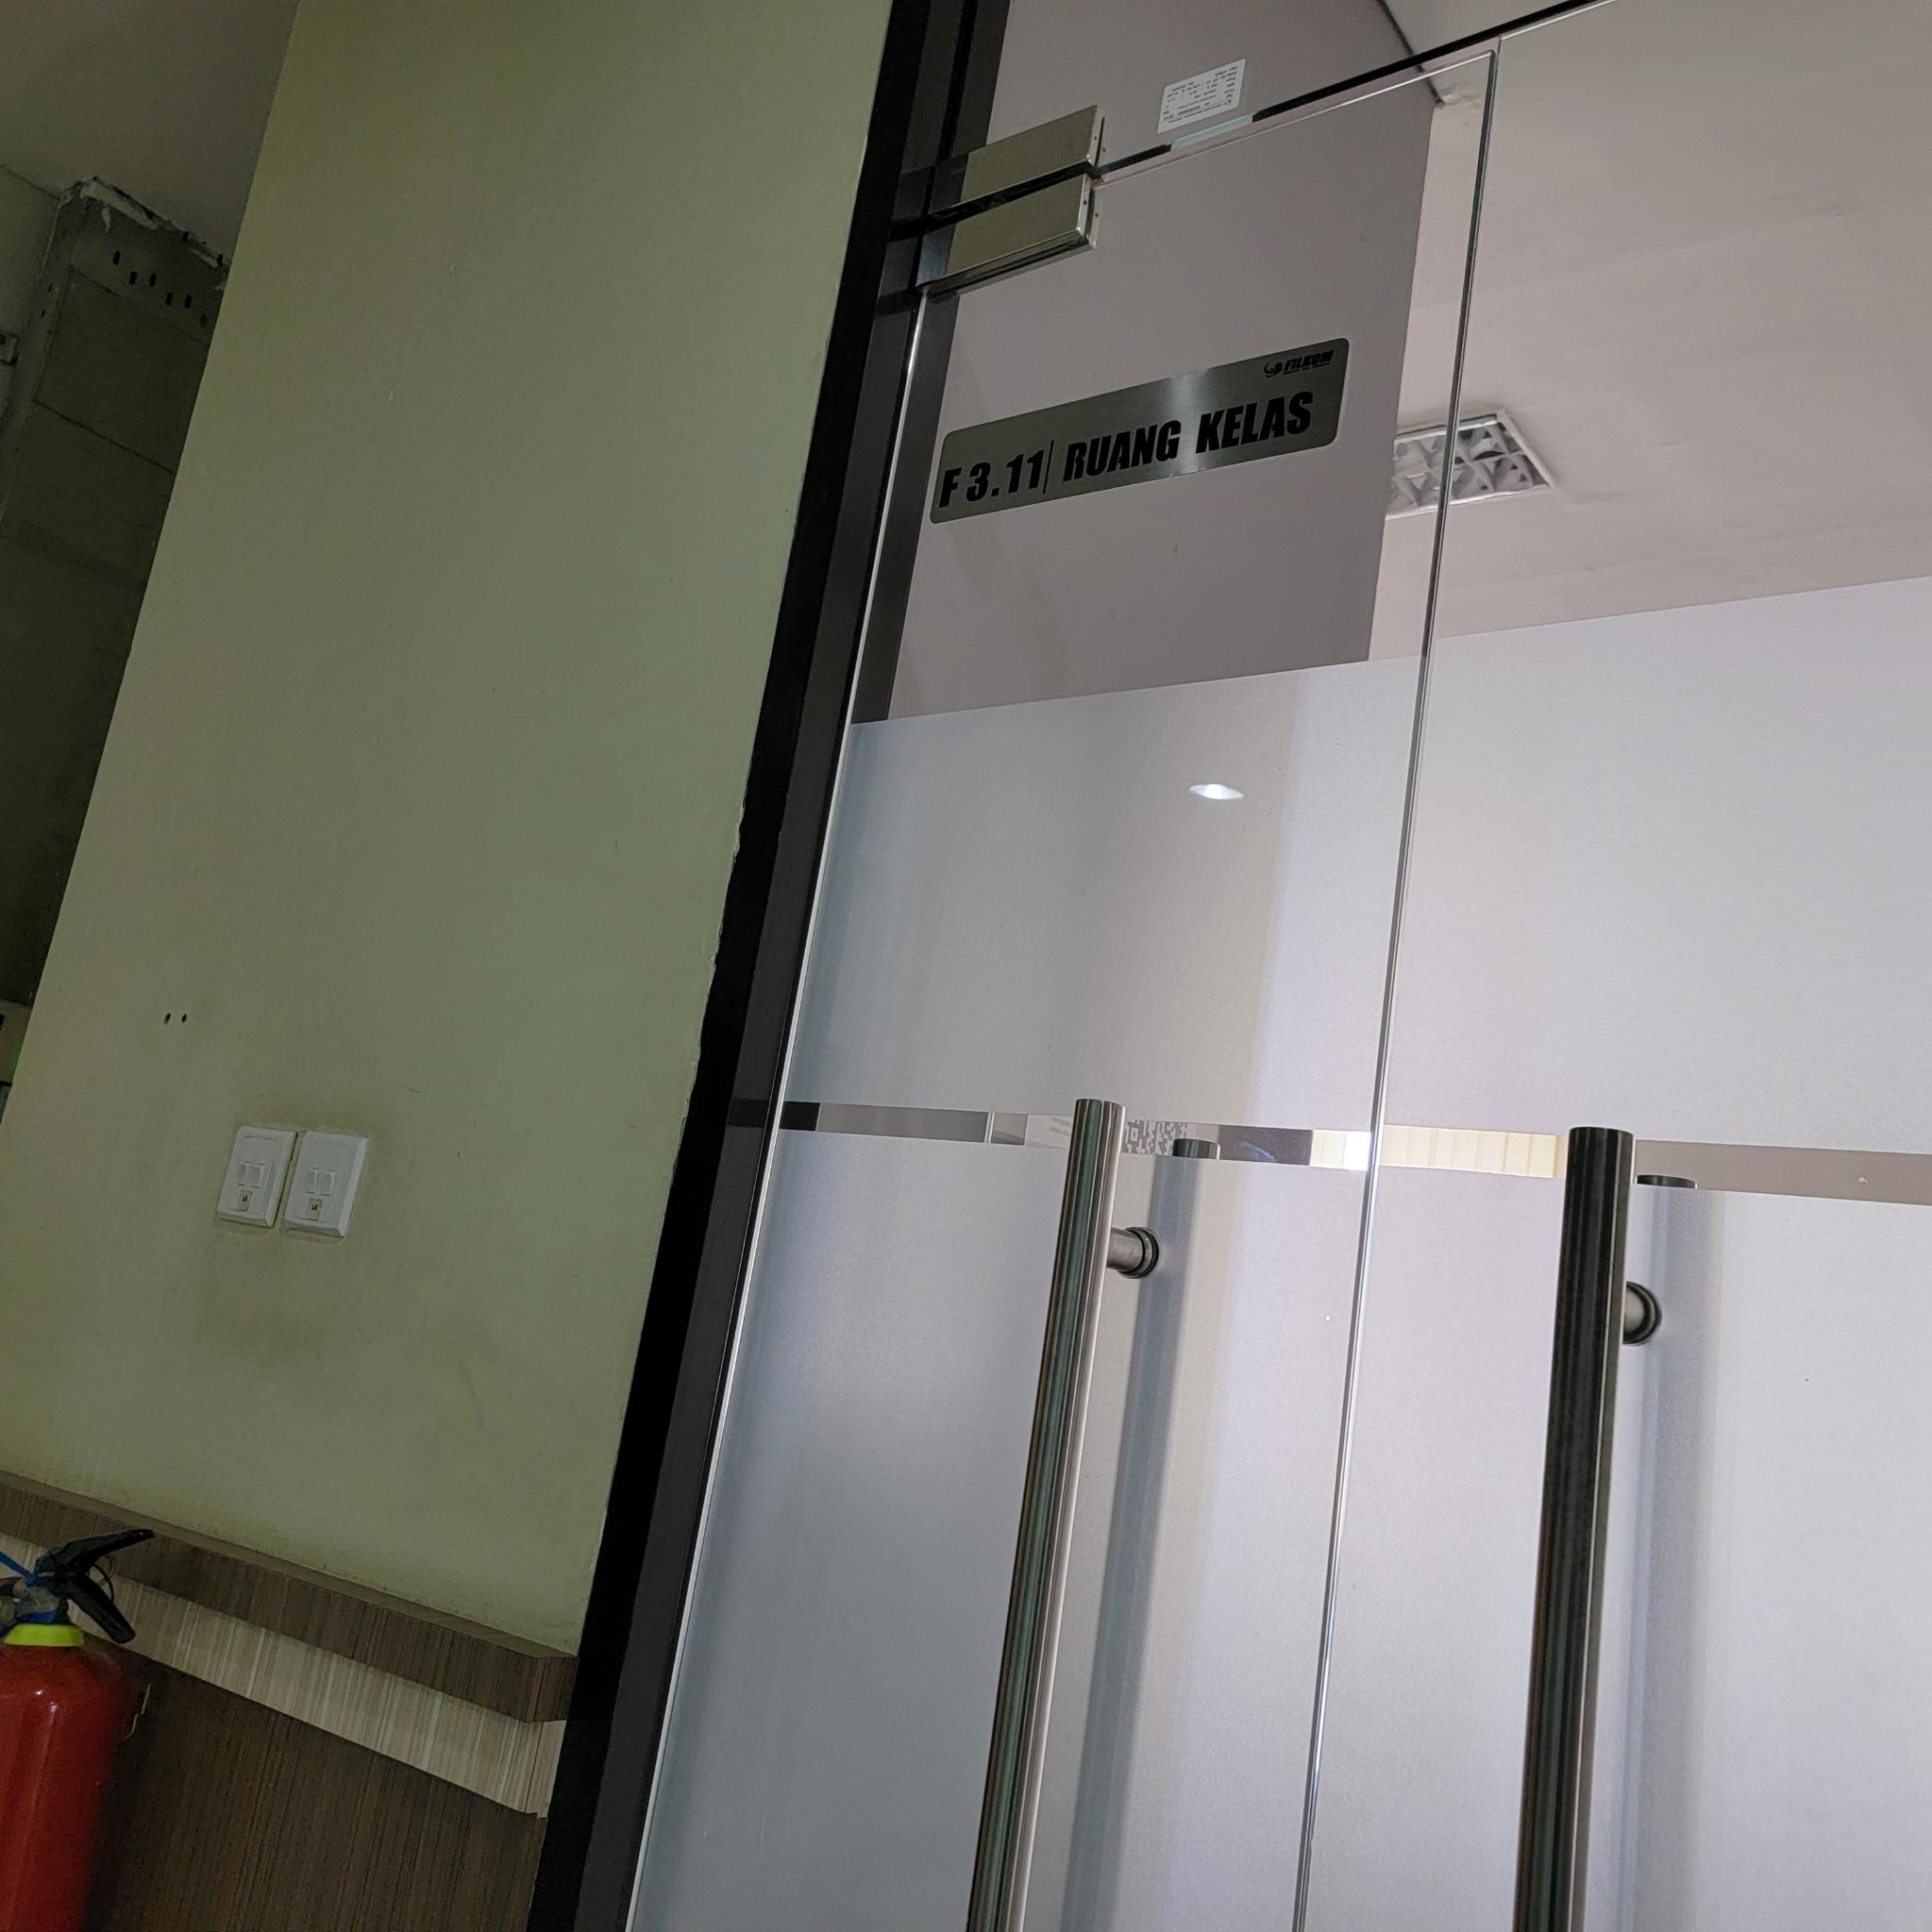plate: (931, 334, 1350, 522)
